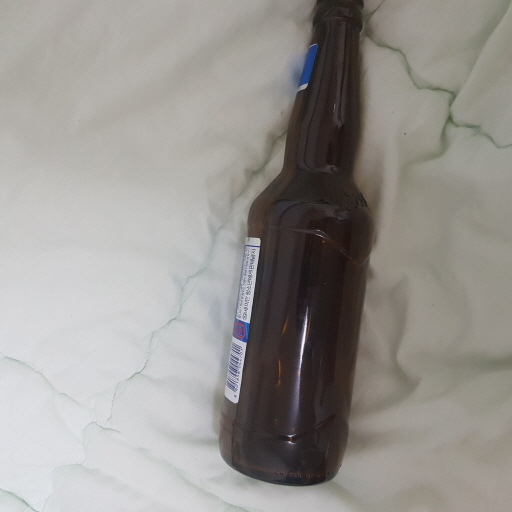Glass_1: (221, 2, 383, 487)
